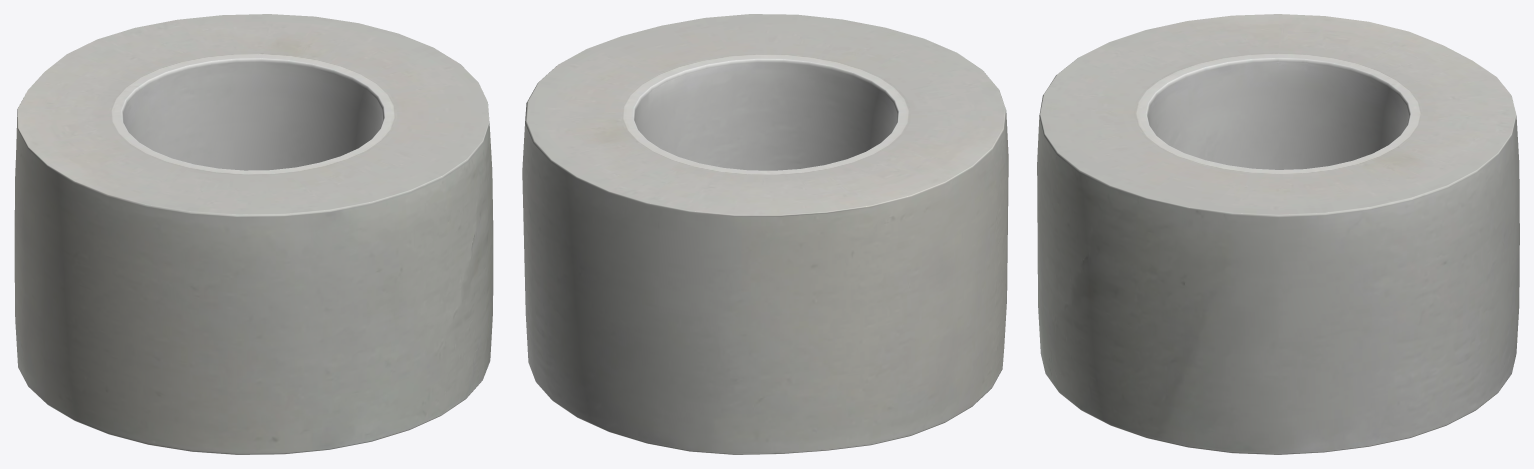
File: medical_tape.glb
The picture shows the model from 3 angles, left to right: view 1: azimuth 30°, elevation 25°; view 2: azimuth 150°, elevation 25°; view 3: azimuth 270°, elevation 25°; orthographic projection.
Parts seen in each view (by area): view 1: medical_tape; view 2: medical_tape; view 3: medical_tape.
Part boxes in pixels (x1,y1,x2,y2): medical_tape: (14,14,493,454); medical_tape: (522,14,1008,454); medical_tape: (1037,14,1519,454).
Size of the model in its own units: 0.0453 by 0.025 by 0.0452.
1 material, 1 textured.
